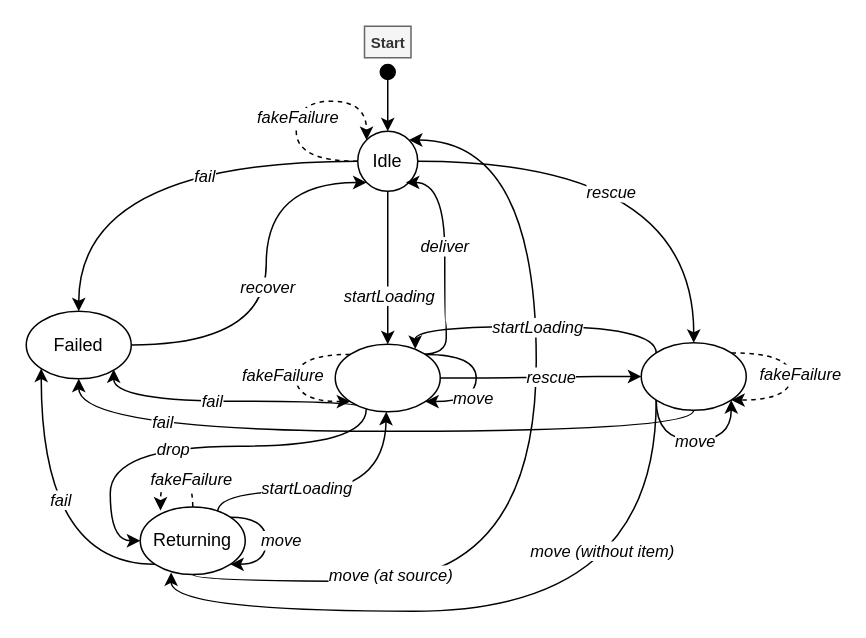
Some shapes in this 866 by 638 pixel diagram are drawn without their labels. The centre of each missing label's shape, as x and y in pixels:
"Carrying" belongs at (387,377).
"Rescuing" belongs at (693,375).
